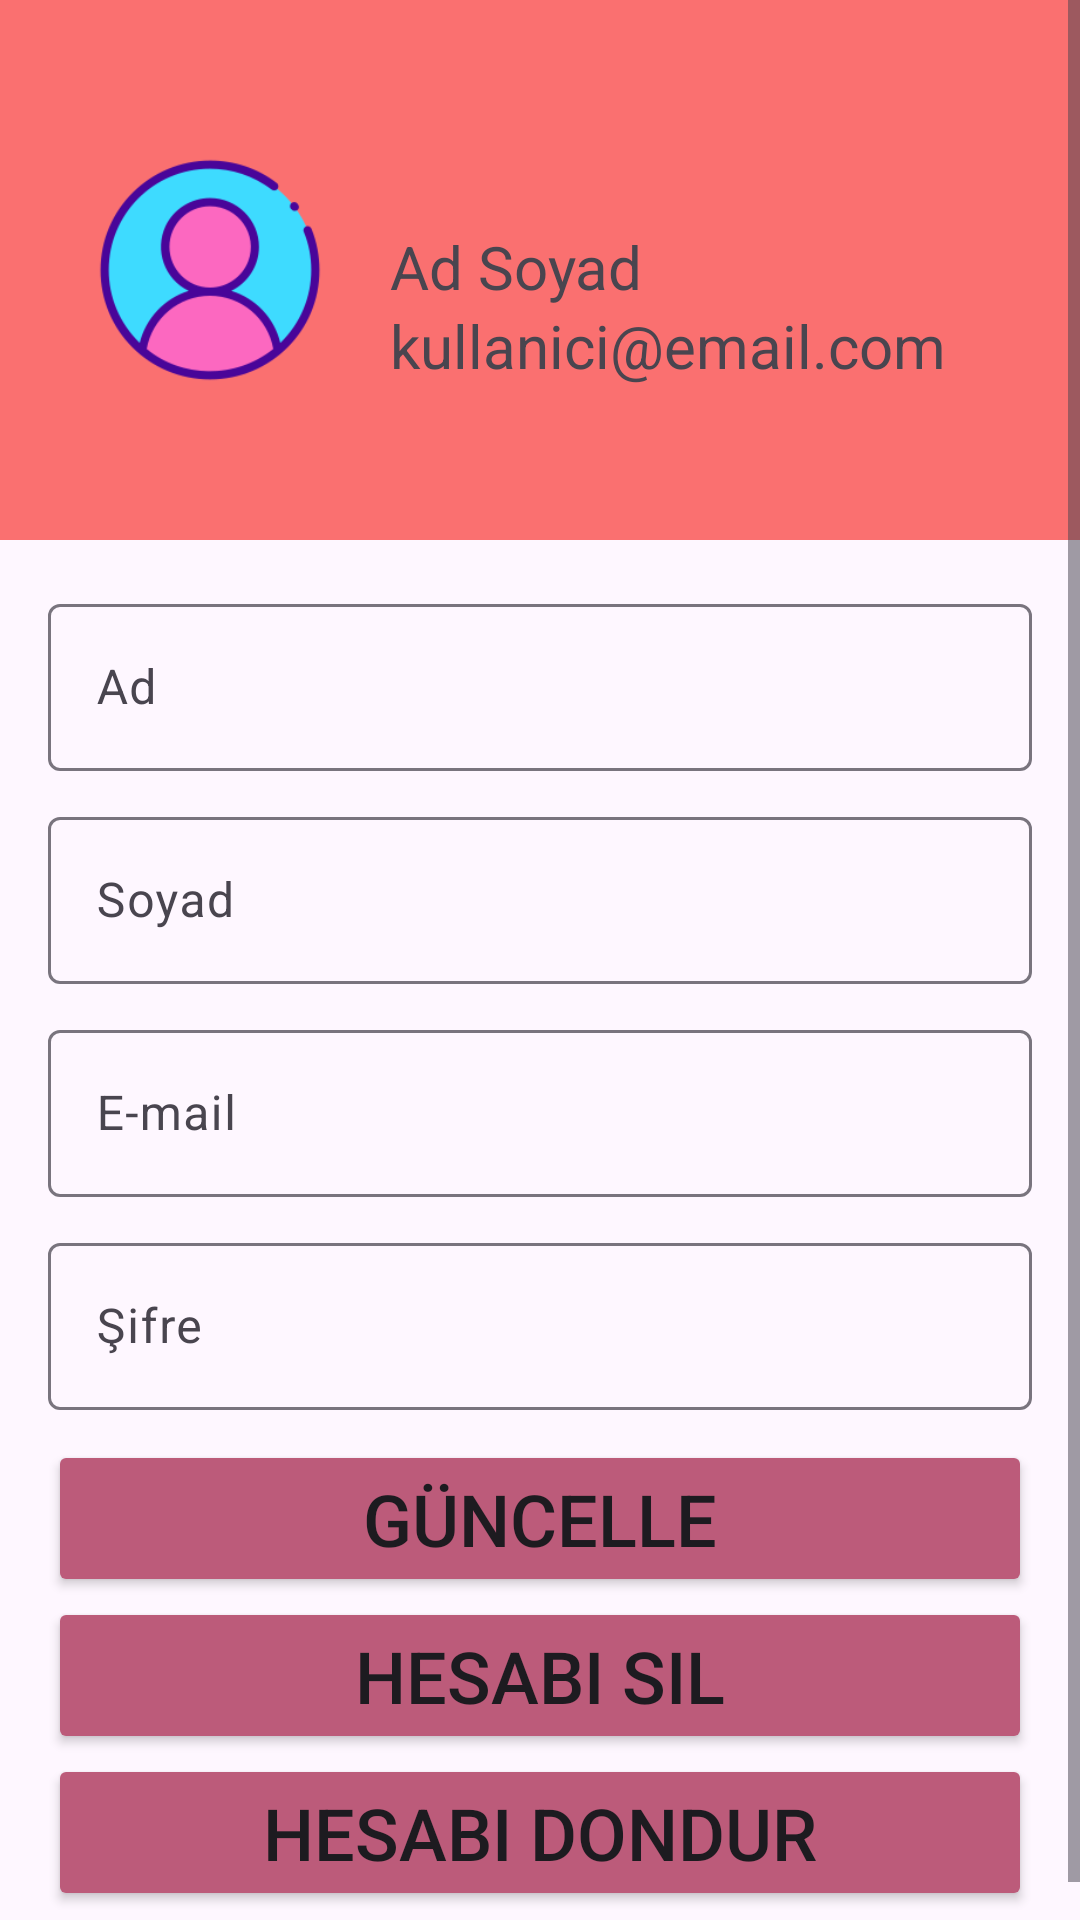

Where to tap for icons on this 1080x1920 app screen, as (x,y):
profileicon: (210,270)
